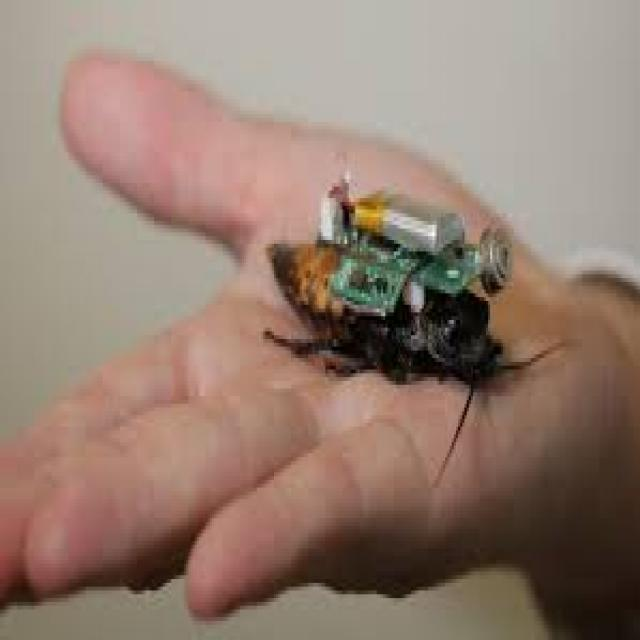Cockroach: (256, 154, 578, 502)
